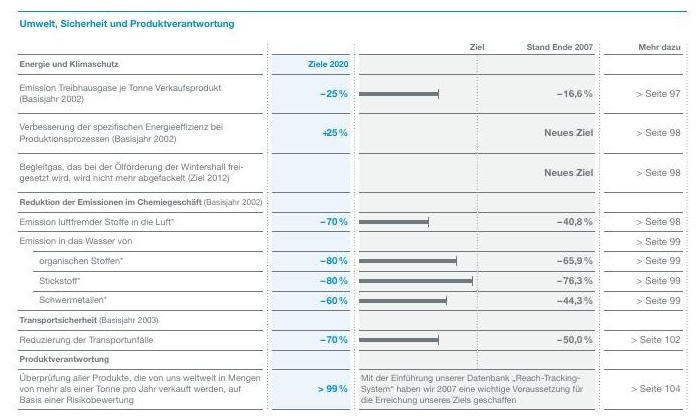table: (0, 0, 699, 419)
